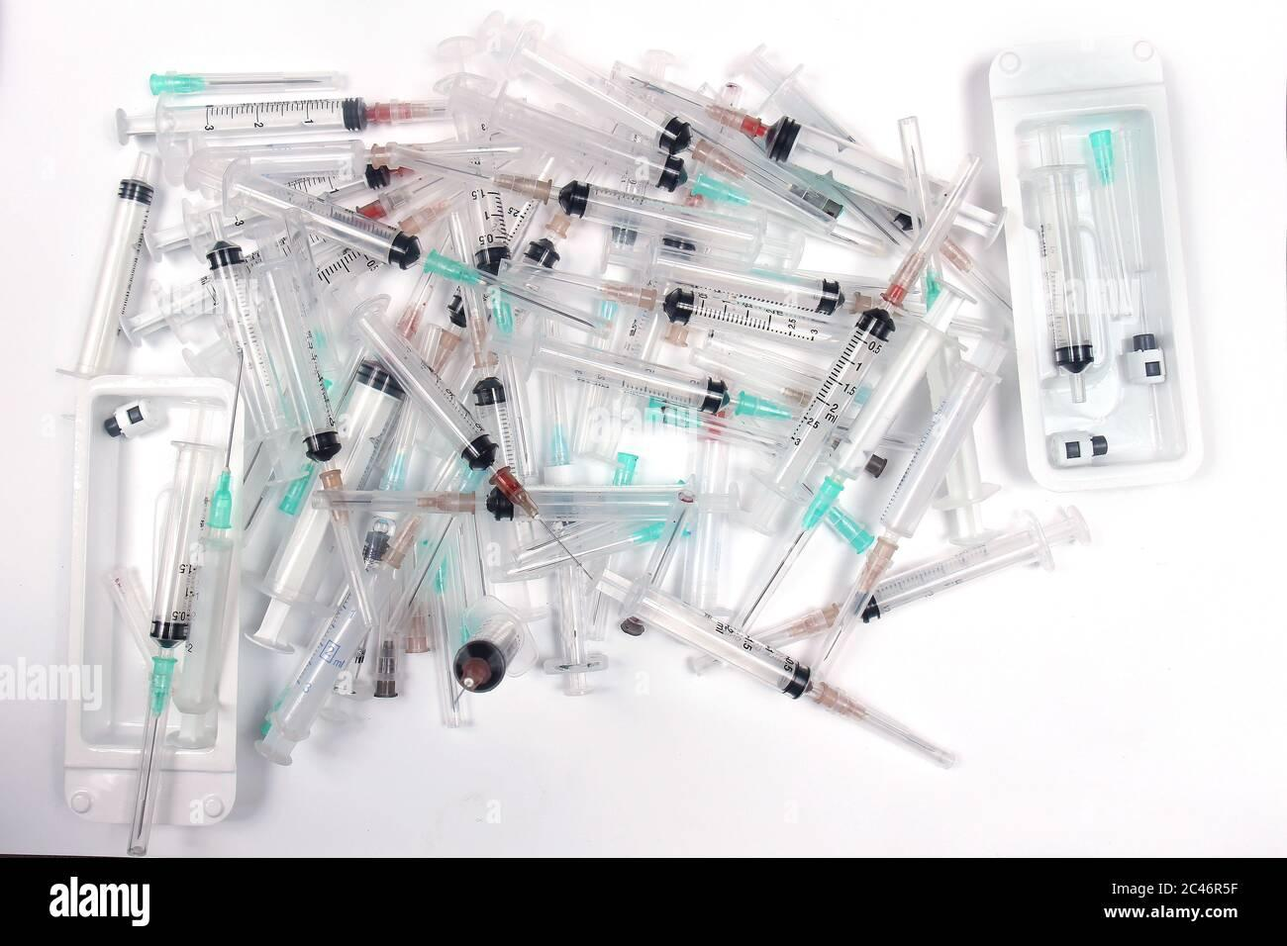Syringe: (818, 338, 1007, 672), (626, 587, 953, 767), (352, 297, 539, 518), (127, 441, 220, 855), (492, 332, 791, 420), (494, 21, 691, 153), (862, 507, 1089, 621), (448, 86, 686, 191), (222, 160, 420, 267), (67, 152, 157, 377), (255, 588, 368, 764), (1032, 126, 1094, 402), (312, 488, 530, 520), (937, 431, 998, 543), (148, 70, 344, 94)
